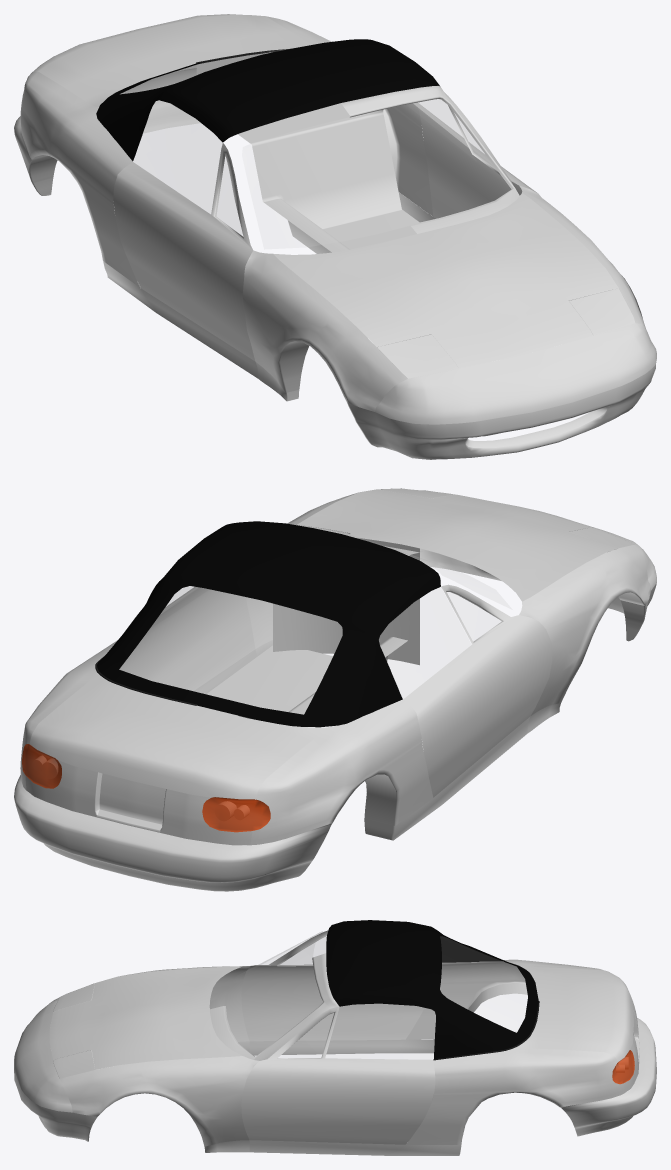
3 renders of one model, top to bottom at view 1: azimuth 30°, elevation 25°; view 2: azimuth 150°, elevation 25°; view 3: azimuth 270°, elevation 25°, orthographic. The views are drawn at different scales.
Visible parts, largest first — view 1: Circle_005, Circle_009, Circle_007, Circle_011, Circle_016, Circle_004, Circle_001, Circle_012, Circle_013, Circle_006, Circle_017, Circle_002 (+5 smaller); view 2: Circle_016, Circle_007, Circle_013, Circle_015, Circle_012, Circle_005, Plane, Circle_001, Circle_011, Circle_014, Circle_017, Circle_000 (+5 smaller); view 3: Circle_007, Circle_012, Circle_016, Circle_005, Circle_001, Circle_013, Circle_009, Circle_000, Circle_017, Circle_015, Plane, Circle_004 (+6 smaller).
Part boxes in pixels (x1,y1,x2,y2): Circle_005: (273, 193, 618, 368); Circle_009: (242, 99, 512, 248); Circle_007: (113, 102, 536, 360); Circle_011: (196, 52, 419, 253); Circle_016: (96, 39, 439, 161); Circle_004: (375, 323, 656, 424); Circle_001: (242, 186, 650, 411); Circle_012: (20, 16, 433, 287); Circle_013: (33, 14, 310, 107); Circle_006: (347, 362, 656, 459); Circle_017: (133, 99, 474, 213); Circle_002: (377, 288, 635, 378); Circle_016: (97, 521, 440, 727); Circle_007: (120, 584, 552, 797); Circle_013: (29, 673, 324, 799); Circle_015: (120, 586, 341, 713); Circle_012: (20, 640, 433, 845); Circle_005: (297, 489, 618, 601); Plane: (14, 775, 332, 891); Circle_001: (246, 493, 650, 715); Circle_011: (119, 538, 419, 726); Circle_014: (25, 760, 252, 845); Circle_017: (151, 586, 470, 698); Circle_000: (194, 640, 560, 840); Circle_007: (241, 930, 435, 1144); Circle_012: (405, 959, 624, 1144); Circle_016: (326, 920, 538, 1058); Circle_005: (49, 966, 242, 1069); Circle_001: (60, 965, 259, 1146); Circle_013: (517, 965, 633, 1061); Circle_009: (225, 931, 322, 1056); Circle_000: (204, 1039, 461, 1155); Circle_017: (326, 1004, 435, 1059); Circle_015: (440, 937, 527, 1032); Plane: (560, 1018, 656, 1136); Circle_004: (14, 997, 72, 1112).
Size of the model in its own units: 18.46 by 45.06 by 12.07.
